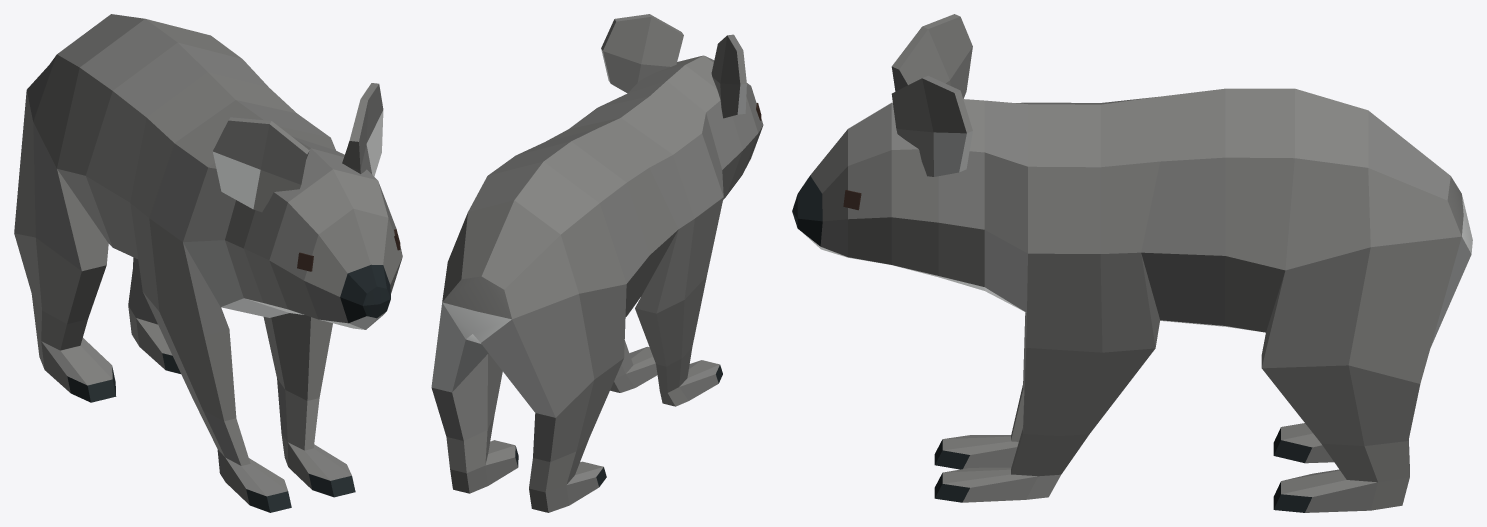
The model's file is Mesh_Koala.gltf.
3 renders of one model, left to right at view 1: azimuth 30°, elevation 25°; view 2: azimuth 150°, elevation 25°; view 3: azimuth 270°, elevation 25°, orthographic. The views are drawn at different scales.
Parts seen in each view (by area): view 1: node-0; view 2: node-0; view 3: node-0.
Part boxes in pixels (x1,y1,x2,y2): node-0: (14,14,402,512); node-0: (431,14,763,512); node-0: (792,14,1472,512).
Bounding box in the file's own units: 48.04 × 97.6 × 142.
Materials: 1 (1 with a texture image).
